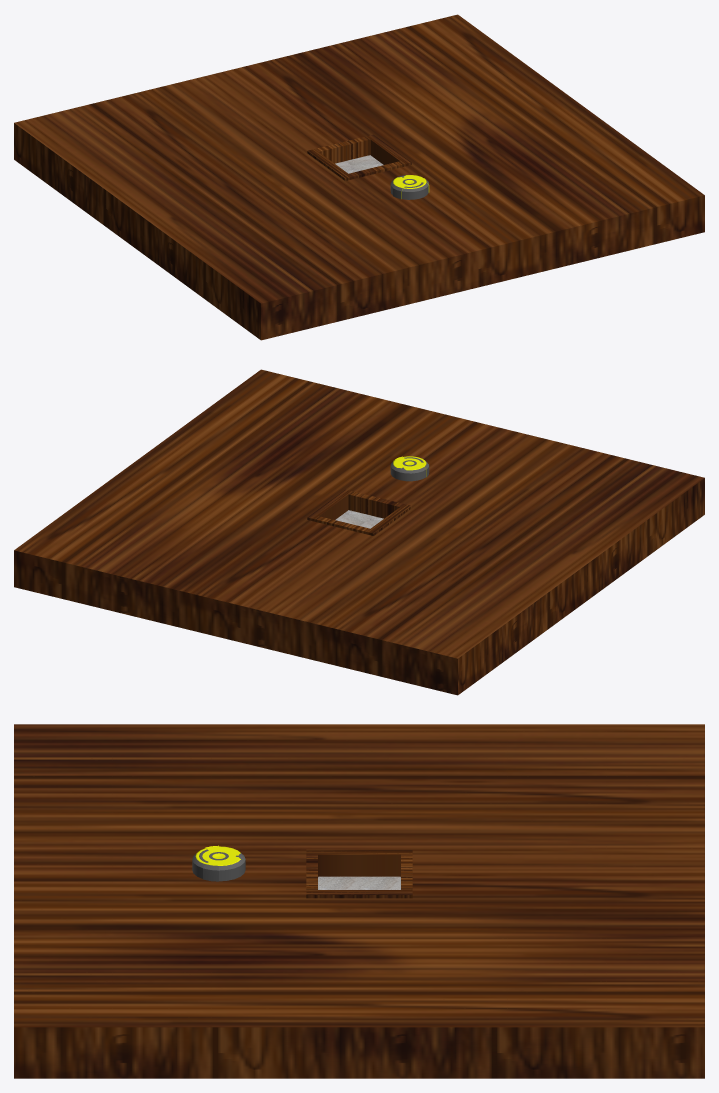
Rendered from Field.fbx.
3 renders of one model, top to bottom at view 1: azimuth 30°, elevation 25°; view 2: azimuth 150°, elevation 25°; view 3: azimuth 270°, elevation 25°, orthographic. The views are drawn at different scales.
Parts seen in each view (by area): view 1: field, irori, Roomba; view 2: field, irori, Roomba; view 3: field, irori, Roomba, sand1.
Part boxes in pixels (box(x1,y1,x2,y2)): field: box(14, 14, 704, 340); irori: box(307, 134, 411, 180); Roomba: box(390, 175, 429, 199); field: box(14, 369, 704, 695); irori: box(307, 489, 411, 535); Roomba: box(390, 456, 429, 481); field: box(14, 724, 704, 1078); irori: box(306, 849, 412, 898); Roomba: box(192, 845, 245, 881); sand1: box(318, 876, 400, 889).
Size of the model in its own units: 318 by 36.68 by 307.
